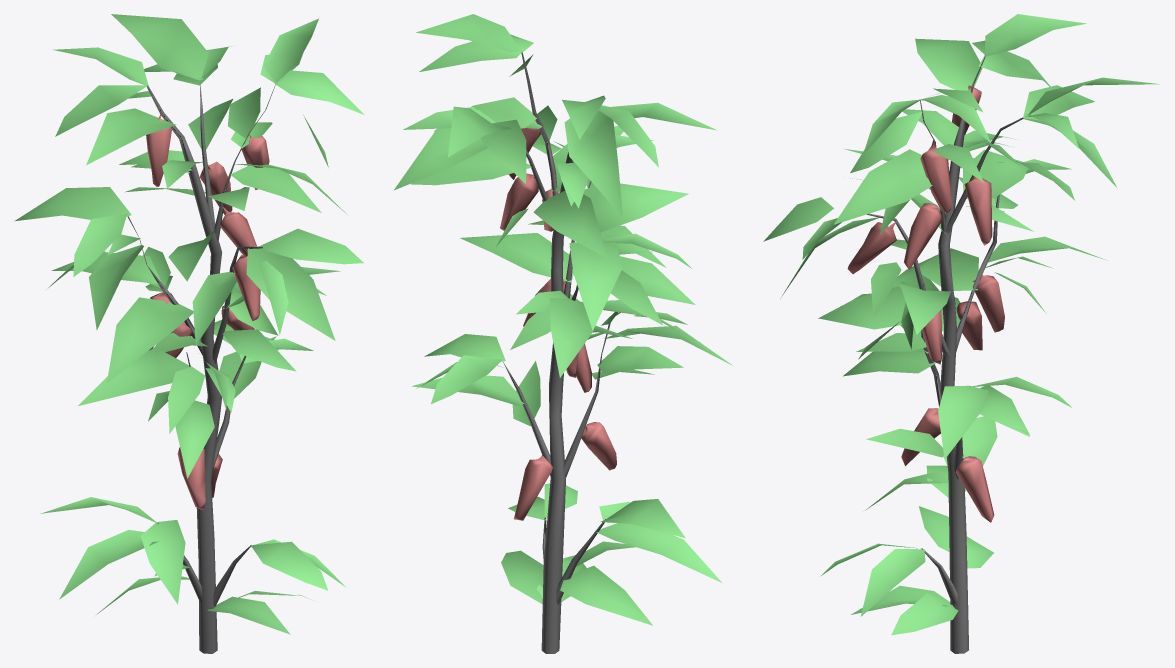
File: SM_plant_pepper_yellow_A.gltf
3 views of the same model, side by side, from view 1: azimuth 30°, elevation 25°; view 2: azimuth 150°, elevation 25°; view 3: azimuth 270°, elevation 25° (orthographic).
Visible parts, largest first — view 1: SM_plant_pepper_yellow_A; view 2: SM_plant_pepper_yellow_A; view 3: SM_plant_pepper_yellow_A.
Boxes of the visible parts, x1,y1,x2,y2 form: SM_plant_pepper_yellow_A: [14, 14, 364, 653]; SM_plant_pepper_yellow_A: [393, 14, 732, 653]; SM_plant_pepper_yellow_A: [763, 14, 1159, 653].
Size of the model in its own units: 0.5644 by 1.1 by 0.6564.
